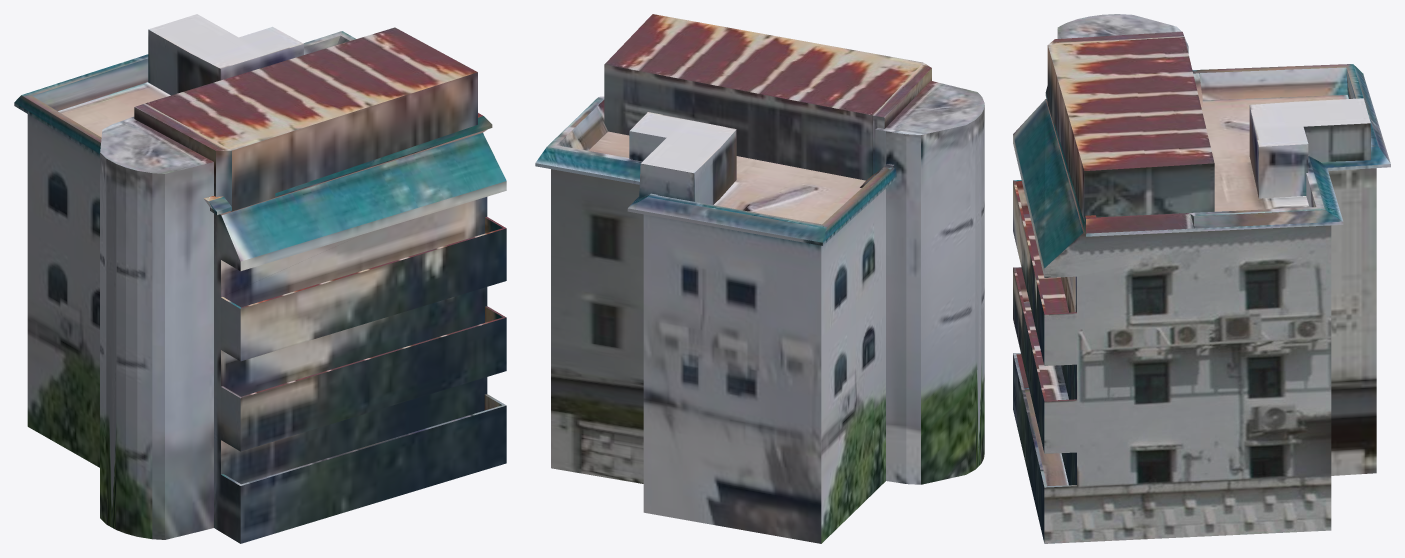
3 renders of one model, left to right at view 1: azimuth 30°, elevation 25°; view 2: azimuth 150°, elevation 25°; view 3: azimuth 270°, elevation 25°, orthographic. The views are drawn at different scales.
Visible parts, largest first — view 1: B294004042301062A0; view 2: B294004042301062A0; view 3: B294004042301062A0.
Part boxes in pixels (<box>): B294004042301062A0: <box>14,14,506,543</box>; B294004042301062A0: <box>535,14,984,543</box>; B294004042301062A0: <box>1013,14,1390,543</box>.
Size of the model in its own units: 10.7 by 10.45 by 9.7.
1 material, 1 textured.
